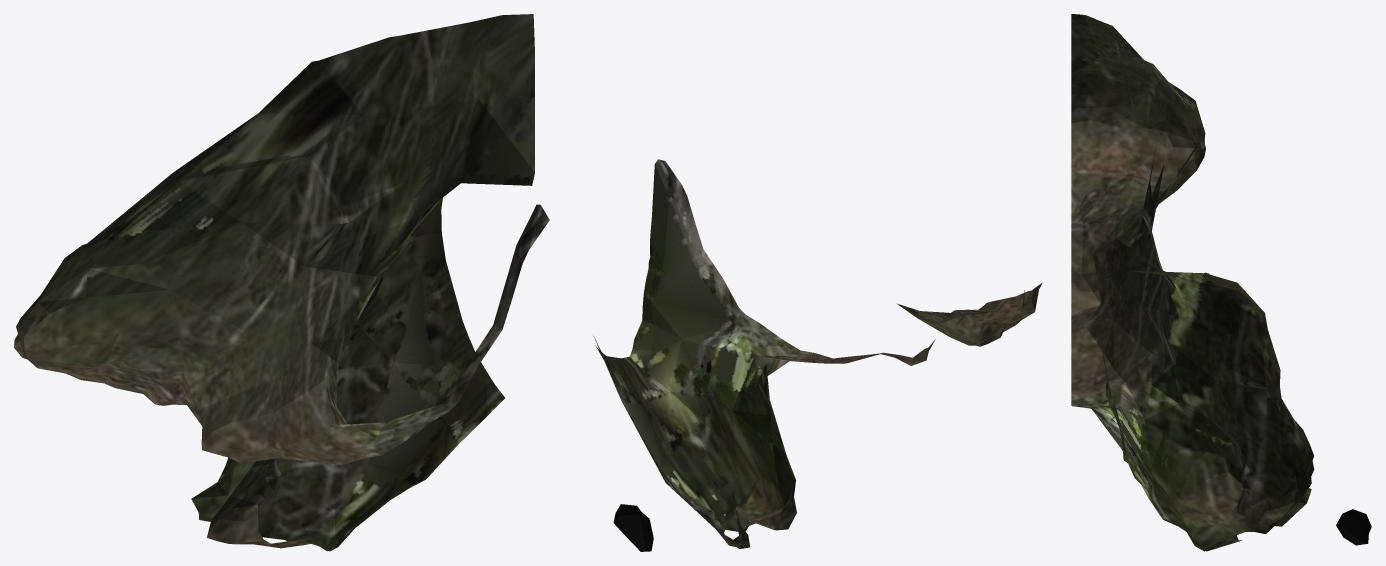
3 views of the same model, side by side, from view 1: azimuth 30°, elevation 25°; view 2: azimuth 150°, elevation 25°; view 3: azimuth 270°, elevation 25° (orthographic). The views are drawn at different scales.
Size of the model in its own units: 2.78 by 2.95 by 1.62.
Materials: 3 (3 with a texture image).
